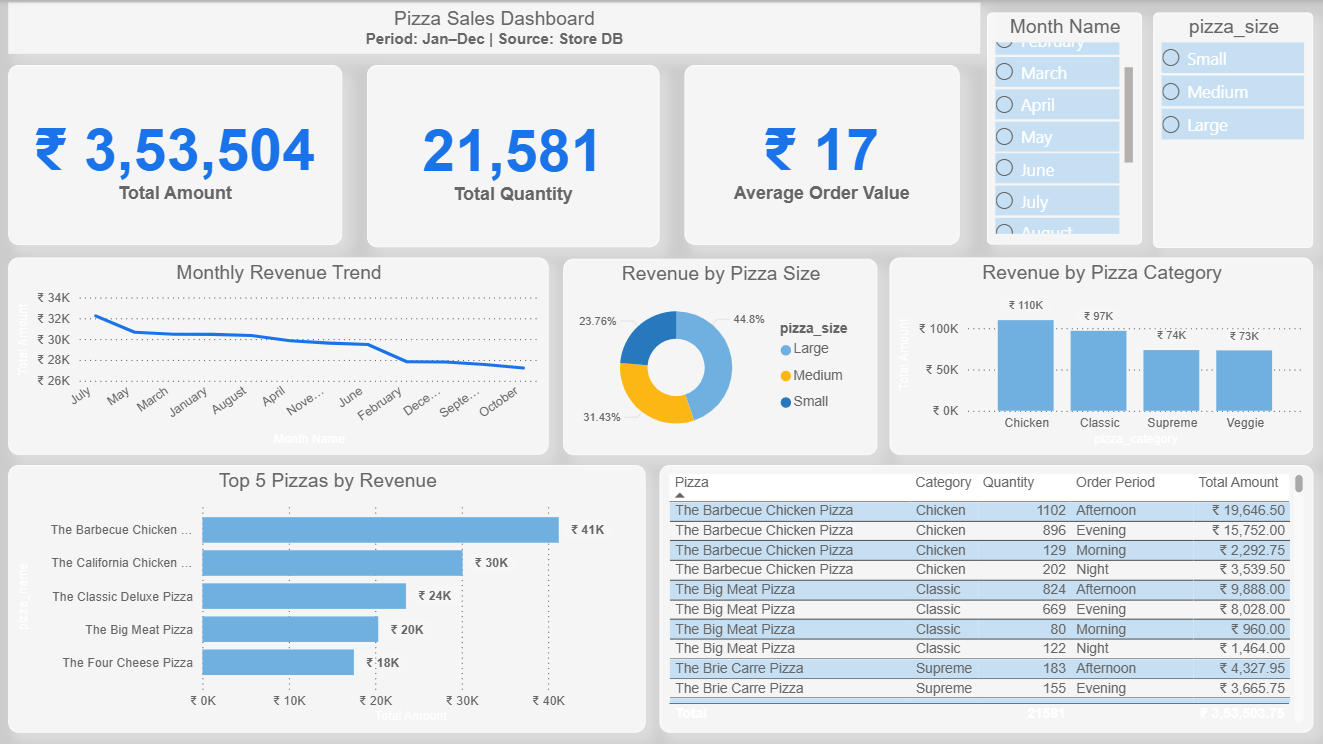

This screenshot's page, from the dashboard's own definition file:
{"tool":"powerbi","page":{"name":"Page 1","canvas":[1280,720],"ordinal":0},"visuals":[{"type":"card","fields":{"Values":["pizza_sales_cleaned.Total Amount"]},"box":[10.9,62.7,322.1,173.7],"z":0},{"type":"card","fields":{"Values":["pizza_sales_cleaned.Total Quantity"]},"box":[357.1,62.7,282.3,176.1],"z":1000},{"type":"card","fields":{"Values":["pizza_sales_cleaned.Average Order Value"]},"box":[663.5,62.7,265.4,173.7],"z":2000},{"type":"lineChart","title":"Monthly Revenue Trend","fields":{"Category":["pizza_sales_cleaned.Month Name"],"Y":["pizza_sales_cleaned.Total Amount"]},"box":[11,248.4,521.4,190.7],"z":3000},{"type":"donutChart","title":"Revenue by Pizza Size","fields":{"Category":["pizza_sales_cleaned.pizza_size"],"Y":["pizza_sales_cleaned.Total Amount"]},"box":[546.1,249.7,303.3,189.4],"z":4000},{"type":"columnChart","title":"Revenue by Pizza Category","fields":{"Category":["pizza_sales_cleaned.pizza_category"],"Y":["pizza_sales_cleaned.Total Amount"]},"box":[861.8,248.4,408.9,190.7],"z":5000},{"type":"clusteredBarChart","title":"Top 5 Pizzas by Revenue","fields":{"Category":["pizza_sales_cleaned.pizza_name"],"Y":["pizza_sales_cleaned.Total Amount"]},"box":[10.9,448.8,615.3,258.2],"z":6000},{"type":"tableEx","fields":{"Values":["pizza_sales_cleaned.pizza_name","pizza_sales_cleaned.pizza_category","Sum(pizza_sales_cleaned.Quantity)","pizza_sales_cleaned.Order Period","pizza_sales_cleaned.Total Amount"]},"box":[639.4,448.8,631,258.2],"z":7000},{"type":"listSlicer","fields":{"Values":["pizza_sales_cleaned.pizza_size"]},"box":[1116,12.1,154.4,226.8],"z":8000},{"type":"listSlicer","fields":{"Values":["pizza_sales_cleaned.Month Name"]},"box":[955.5,12.1,149.6,224.4],"z":9000},{"type":"textbox","box":[10.9,2.4,938.6,49.5],"z":10000}]}

Visuals, with their boxes in screenshot pixels (x1, y1, x2, y2), scaled from the page's 1280x720 canvas onto the 1323x744 screenshot:
card - pizza_sales_cleaned.Total Amount: <box>11,65,344,244</box>
card - pizza_sales_cleaned.Total Quantity: <box>369,65,661,247</box>
card - pizza_sales_cleaned.Average Order Value: <box>686,65,960,244</box>
"Monthly Revenue Trend" lineChart: <box>11,257,550,454</box>
"Revenue by Pizza Size" donutChart: <box>564,258,878,454</box>
"Revenue by Pizza Category" columnChart: <box>891,257,1313,454</box>
"Top 5 Pizzas by Revenue" clusteredBarChart: <box>11,464,647,731</box>
tableEx - pizza_sales_cleaned.pizza_name x pizza_sales_cleaned.pizza_category: <box>661,464,1313,731</box>
listSlicer - pizza_sales_cleaned.pizza_size: <box>1153,13,1313,247</box>
listSlicer - pizza_sales_cleaned.Month Name: <box>988,13,1142,244</box>
textbox: <box>11,2,981,54</box>
